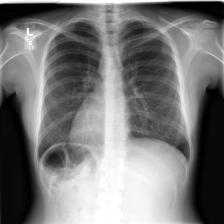normal: (31, 18, 195, 179)
